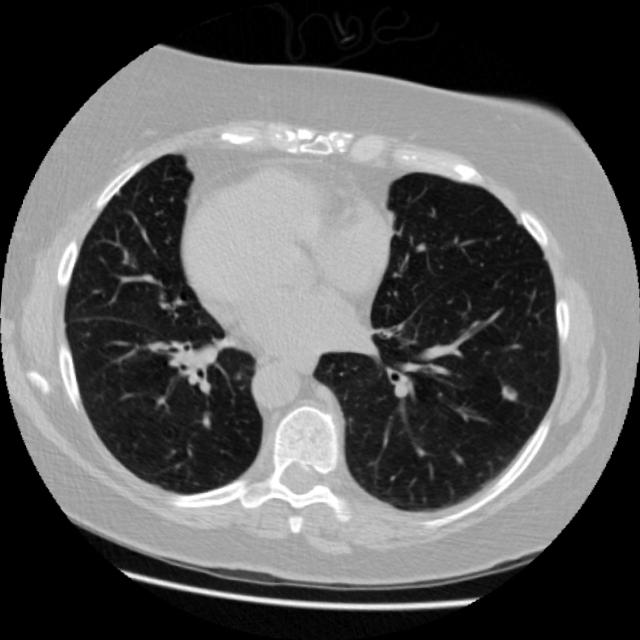nodule: (493, 376, 528, 410)
